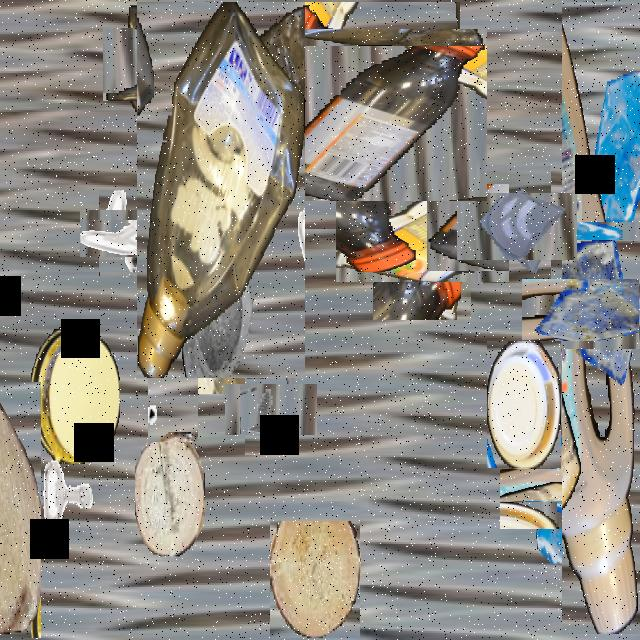glass: (173, 234, 263, 394), (516, 429, 634, 545), (545, 255, 640, 373), (470, 179, 564, 273)
metal: (37, 439, 99, 549), (235, 373, 307, 445), (148, 354, 198, 442), (90, 200, 156, 266)
plastic: (137, 2, 305, 378), (562, 2, 640, 634), (274, 16, 474, 215), (354, 165, 490, 301), (31, 325, 119, 464), (116, 14, 214, 114), (487, 342, 561, 469), (568, 169, 640, 292)
wood: (270, 521, 360, 638), (0, 382, 41, 638), (135, 432, 205, 556)
